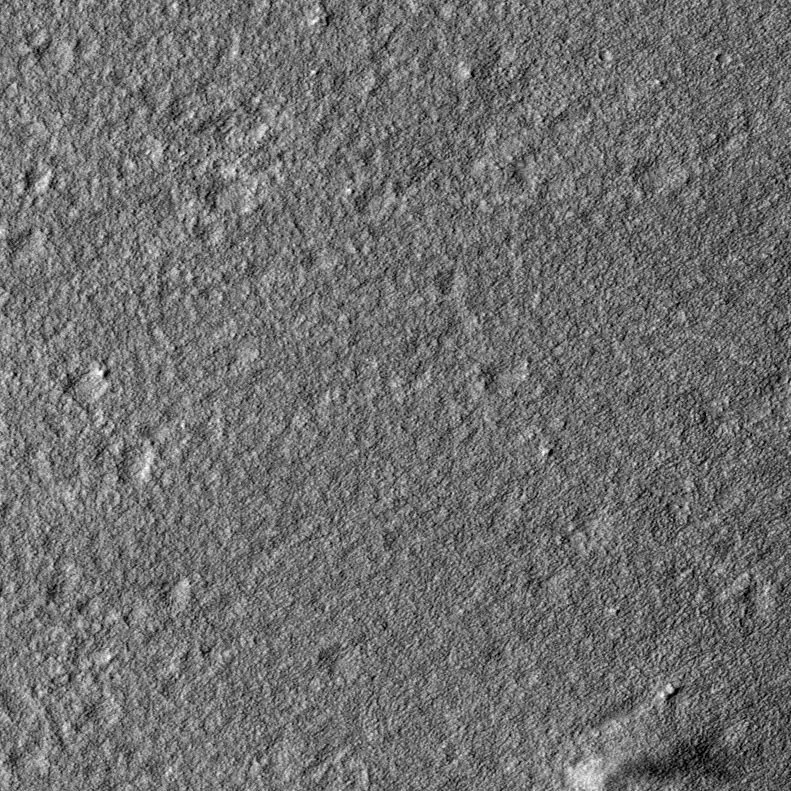dust_devil: (560, 737, 741, 791)
